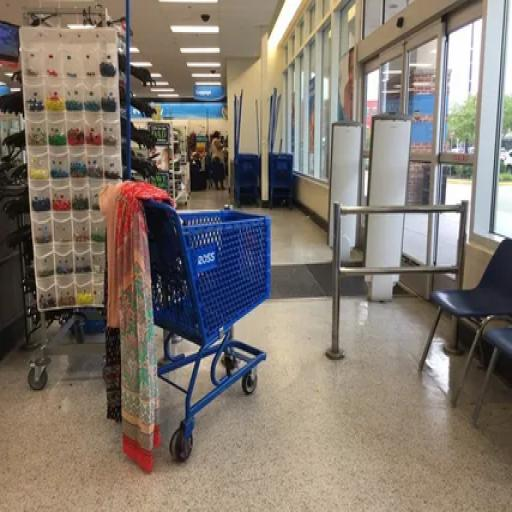shopping_cart: (138, 198, 271, 462)
